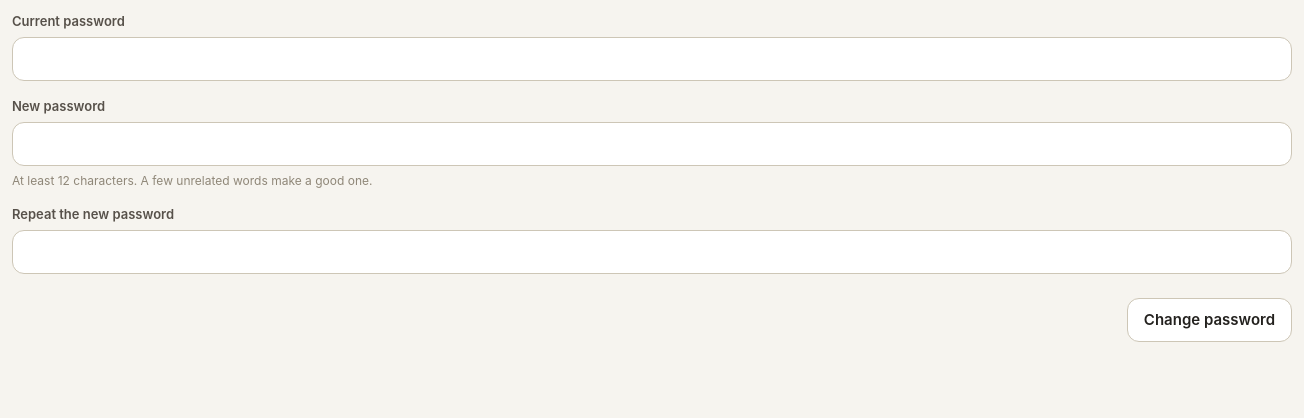
ChangePasswordForm › says when the current password is wrong
Type "not the password" into the password field labelled "Current password".
click(652, 59); type("not the password")  # box [12, 37, 1292, 81]
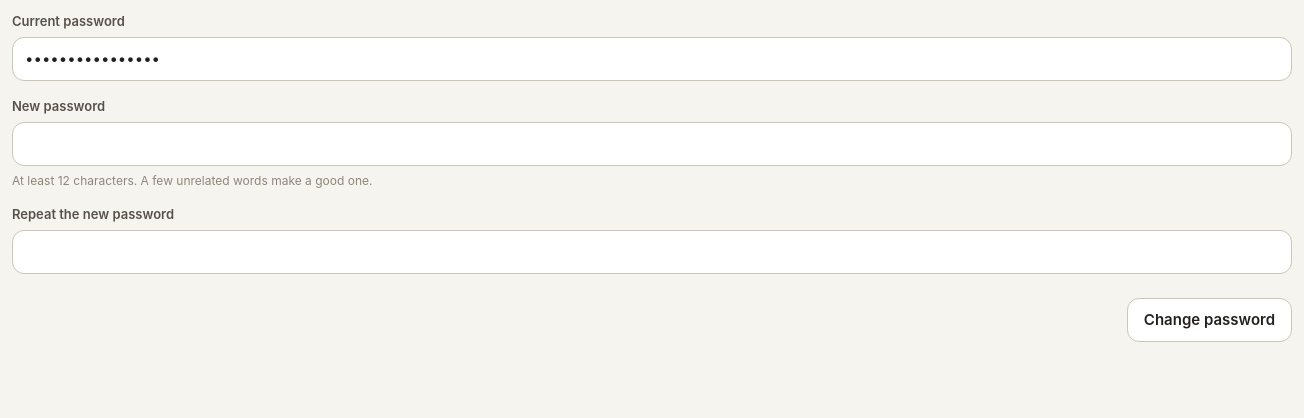
Type "a brand new secret" into the password field labelled "New password".
click(652, 144); type("a brand new secret")  # box [12, 122, 1292, 166]
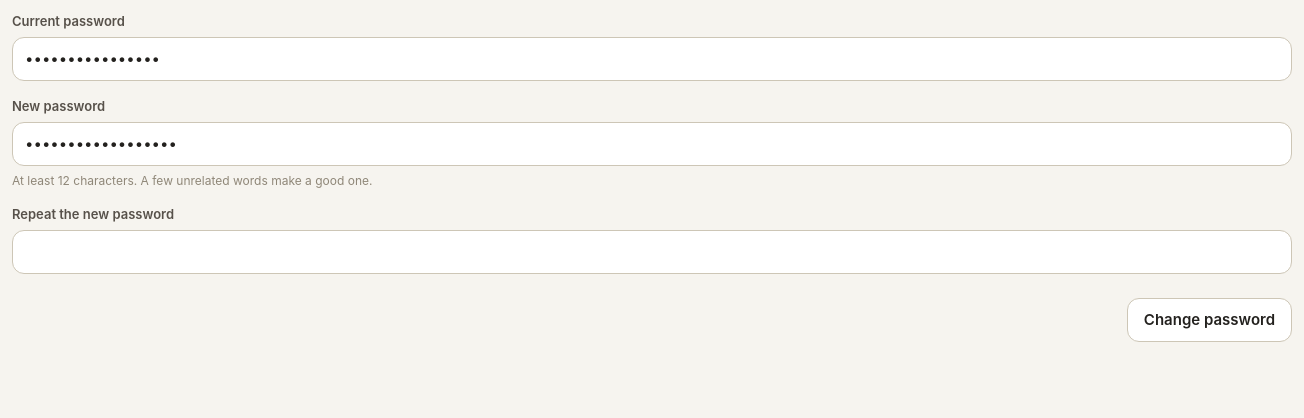
Type "a brand new secret" into the password field labelled "Repeat the new password".
click(652, 252); type("a brand new secret")  # box [12, 230, 1292, 274]
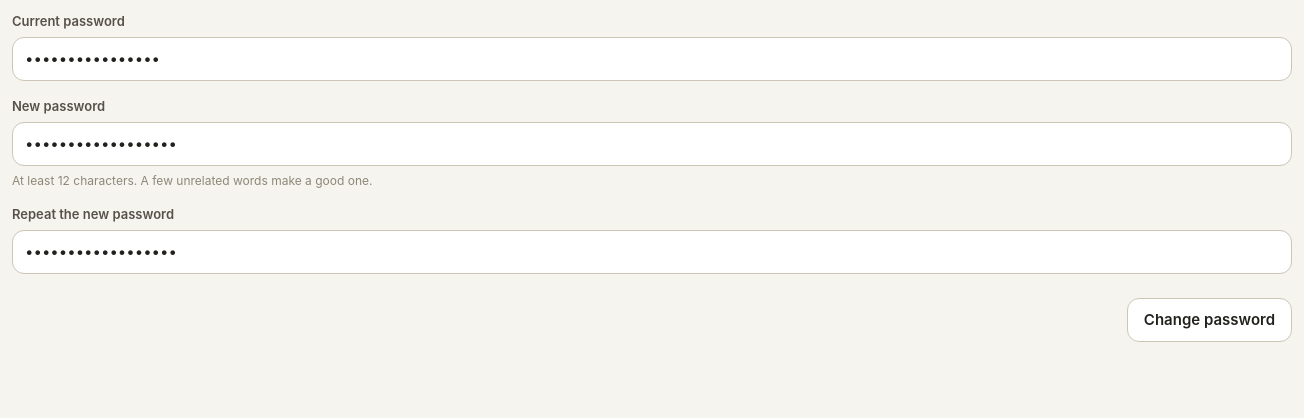
Click the button "Change password".
click(1209, 320)  # box [1127, 298, 1292, 342]
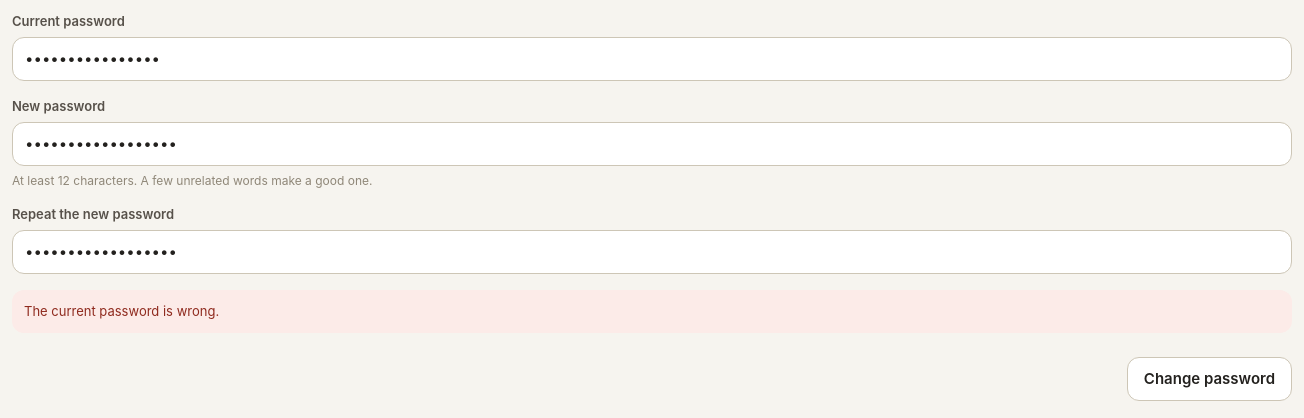
Expected: the message reads "The current password is wrong.", [24, 303, 219, 319]
